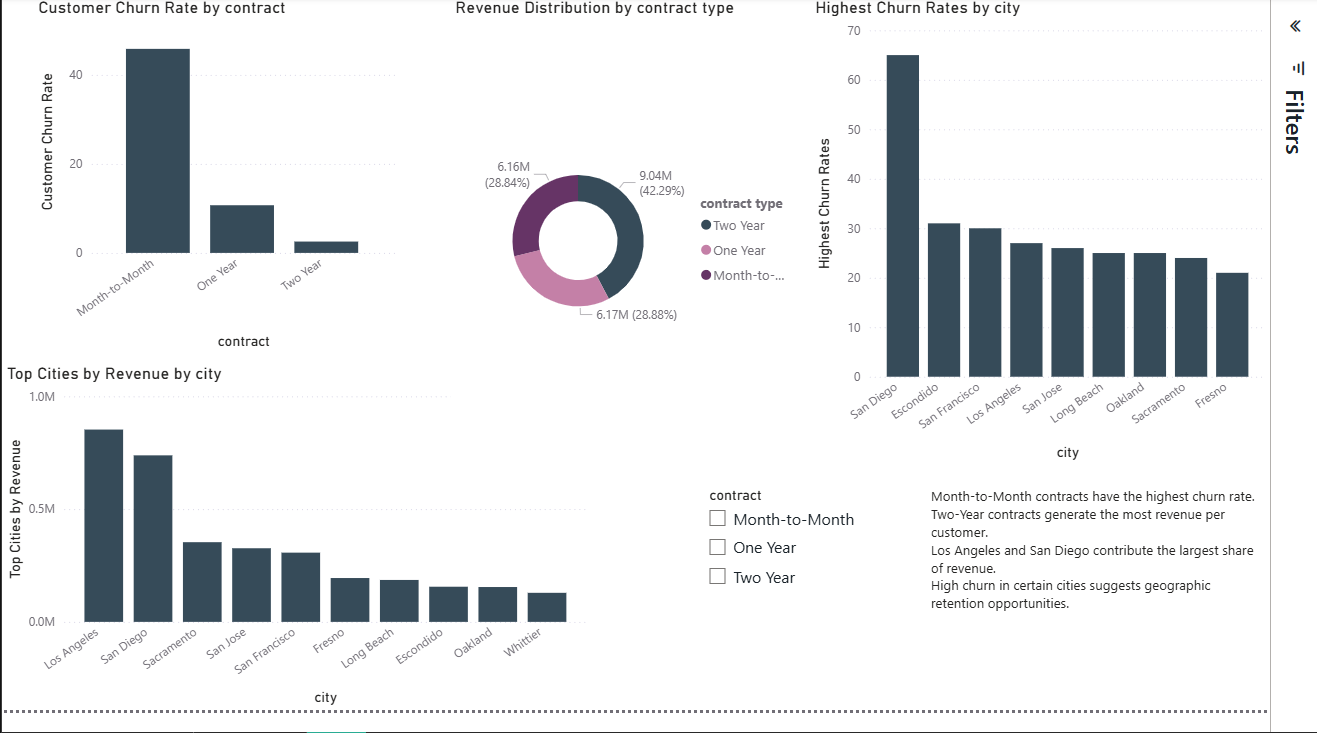

Layout of this report page (visuals, bound fields, positions):
{"tool":"powerbi","page":{"name":"Page 1","canvas":[1280,720],"ordinal":0},"visuals":[{"type":"columnChart","fields":{"Category":["Contract churn rate.contract"],"Y":["Sum(Contract churn rate.churn_rate)"]},"box":[32.5,0,370,360],"z":0},{"type":"clusteredColumnChart","fields":{"Category":["Top 10 high revenue city.city"],"Y":["Sum(Top 10 high revenue city.sum_total_revenue)"]},"box":[0,370,595,350],"z":1000},{"type":"donutChart","fields":{"Category":["Highest revenue by contract type.contract"],"Y":["Sum(Highest revenue by contract type.total_revenue)"]},"box":[452,0,364,472],"z":2000},{"type":"clusteredColumnChart","fields":{"Category":["Cities churn rate.city"],"Y":["Sum(Cities churn rate.churn_perct)"]},"box":[816,0,464,472],"z":3000},{"type":"slicer","fields":{"Values":["Contract churn rate.contract"]},"box":[701.1,489.5,232.4,230.6],"z":4000},{"type":"textbox","box":[933,489,347,231],"z":5000}]}

Visuals, with their boxes on the page's 1280x720 design canvas (x1, y1, x2, y2). These are canvas units, not pixel positions in the 1317x733 screenshot, which may show the page scaled, cropped or inside an application window:
columnChart - Contract churn rate.contract x Sum(Contract churn rate.churn_rate): region(32, 0, 402, 360)
clusteredColumnChart - Top 10 high revenue city.city x Sum(Top 10 high revenue city.sum_total_revenue): region(0, 370, 595, 720)
donutChart - Highest revenue by contract type.contract x Sum(Highest revenue by contract type.total_revenue): region(452, 0, 816, 472)
clusteredColumnChart - Cities churn rate.city x Sum(Cities churn rate.churn_perct): region(816, 0, 1280, 472)
slicer - Contract churn rate.contract: region(701, 490, 934, 720)
textbox: region(933, 489, 1280, 720)
